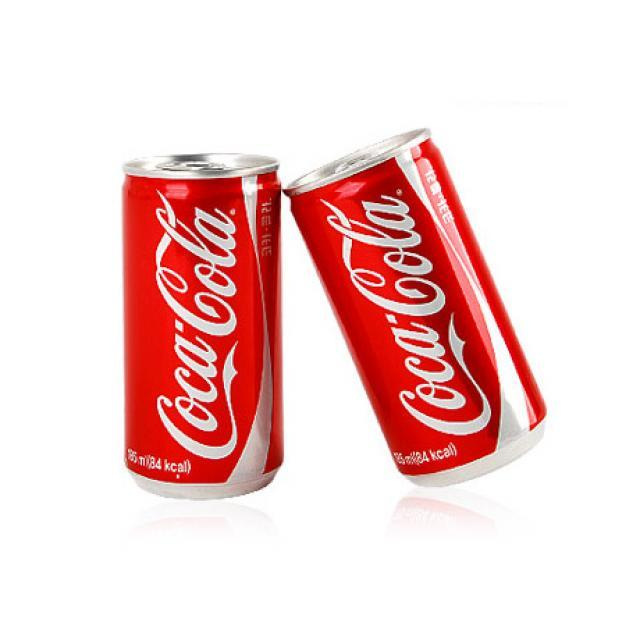coca-cola: (284, 122, 552, 492), (118, 148, 286, 508)
